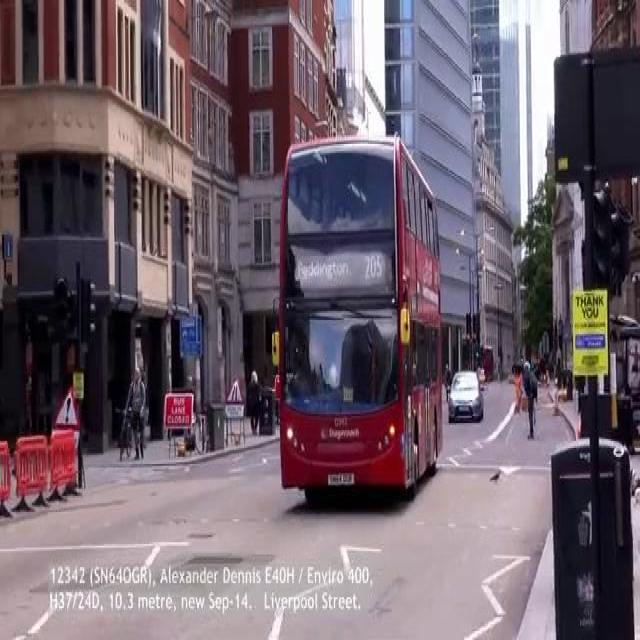bus: (274, 133, 445, 494)
